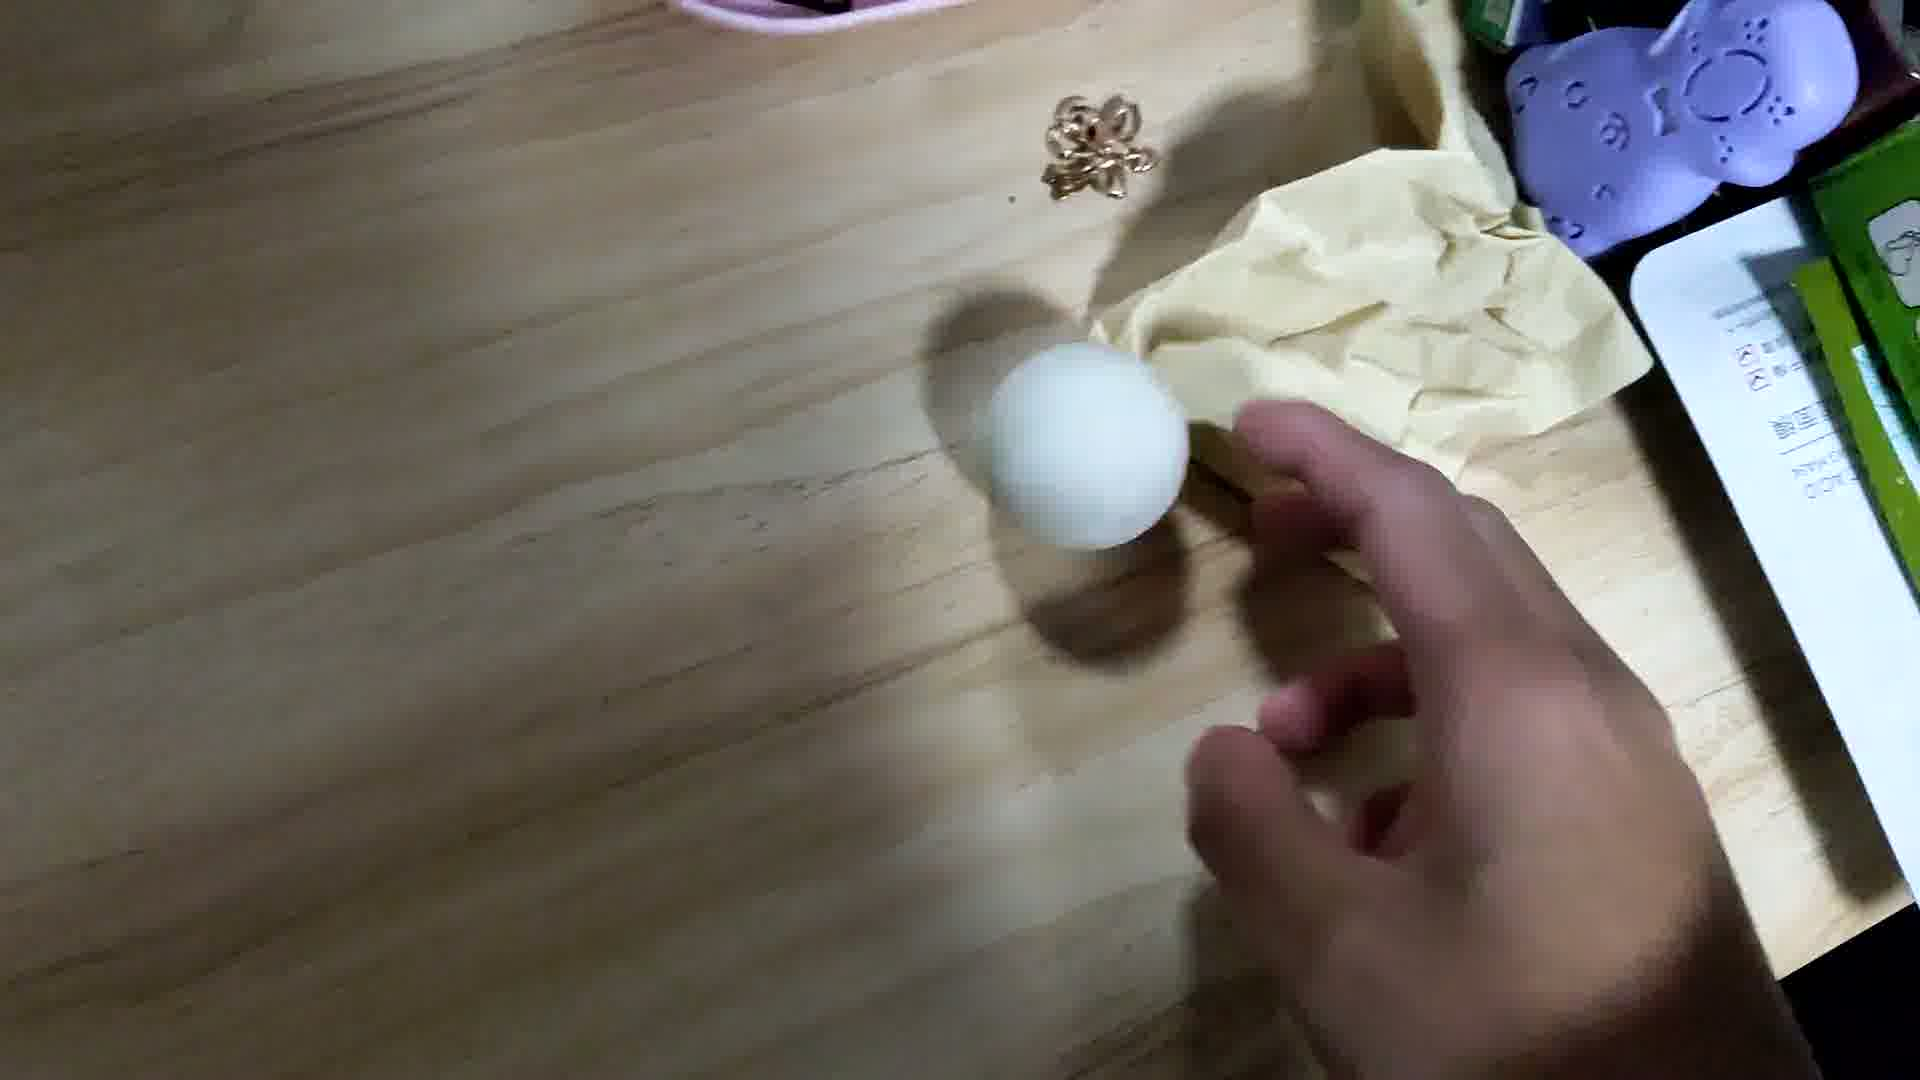Ball: (992, 348, 1188, 549)
